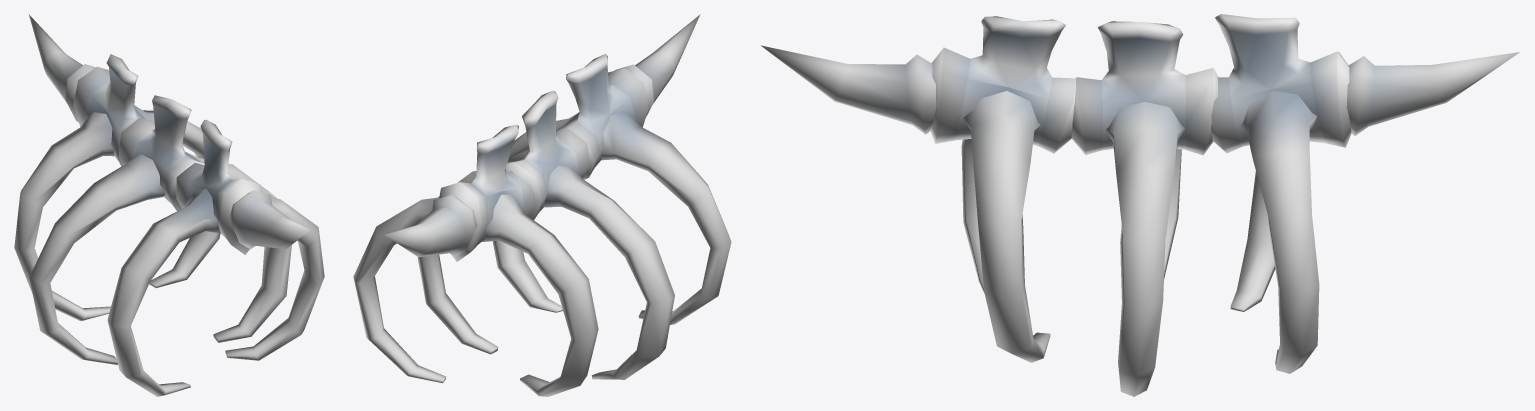
Rendered from RibcagePieces.gltf.
3 views of the same model, side by side, from view 1: azimuth 30°, elevation 25°; view 2: azimuth 150°, elevation 25°; view 3: azimuth 270°, elevation 25° (orthographic). The views are drawn at different scales.
Parts seen in each view (by area): view 1: RibcagePiece2, RibcagePiece1, RibcagePiece3; view 2: RibcagePiece3, RibcagePiece2, RibcagePiece1; view 3: RibcagePiece3, RibcagePiece2, RibcagePiece1.
Boxes of the visible parts, x1,y1,x2,y2 form: RibcagePiece2: [107, 119, 324, 396]; RibcagePiece1: [29, 95, 291, 364]; RibcagePiece3: [14, 14, 220, 321]; RibcagePiece3: [353, 124, 598, 396]; RibcagePiece2: [492, 14, 731, 324]; RibcagePiece1: [417, 91, 674, 379]; RibcagePiece3: [1211, 14, 1519, 373]; RibcagePiece2: [761, 16, 1075, 362]; RibcagePiece1: [1071, 21, 1218, 396].
Size of the model in its own units: 2.01 by 1.95 by 4.07.
